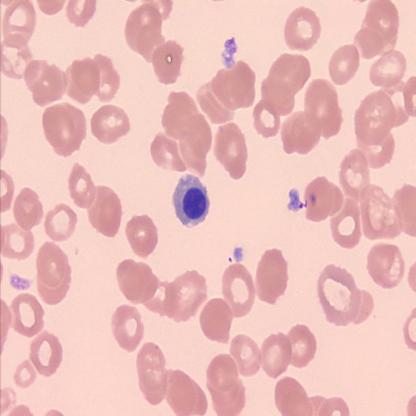NRC: (172, 170, 210, 229)
